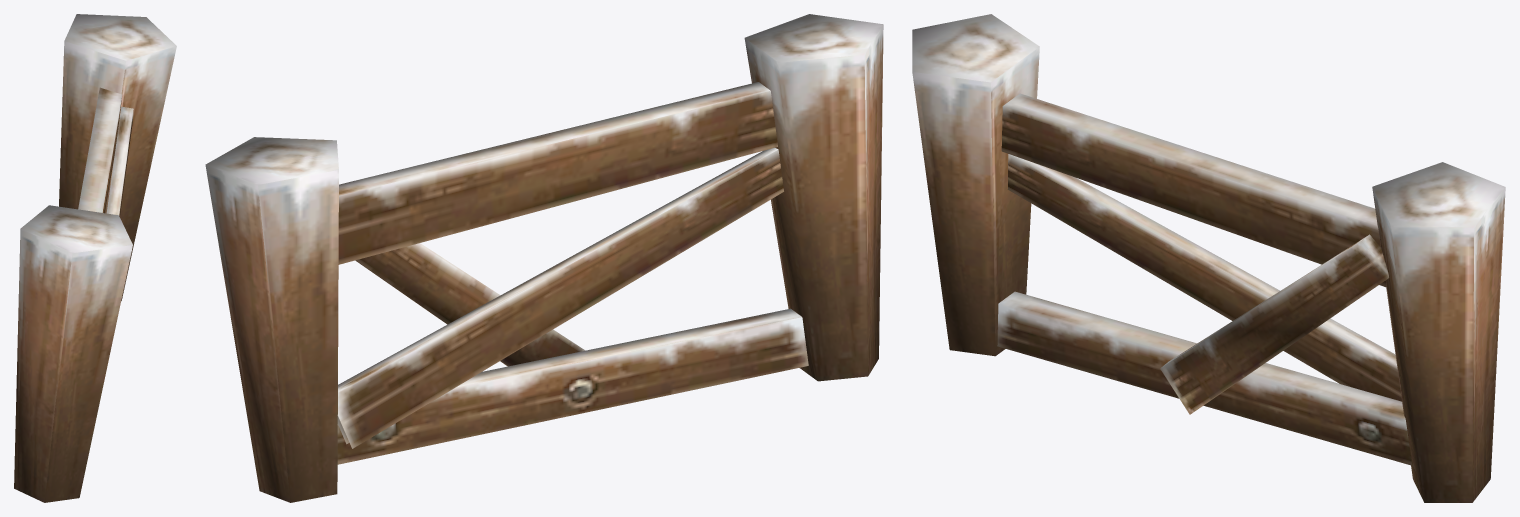
File: SM_Enclosure_17.fbx
3 views of the same model, side by side, from view 1: azimuth 30°, elevation 25°; view 2: azimuth 150°, elevation 25°; view 3: azimuth 270°, elevation 25° (orthographic). The views are drawn at different scales.
Visible parts, largest first — view 1: SM_Enclosure_17; view 2: SM_Enclosure_17; view 3: SM_Enclosure_17.
Part boxes in pixels (bbox=[...]): SM_Enclosure_17: bbox=[14, 14, 176, 502]; SM_Enclosure_17: bbox=[205, 14, 883, 502]; SM_Enclosure_17: bbox=[912, 14, 1505, 502].
Size of the model in its own units: 1.59 by 1.25 by 2.07.
